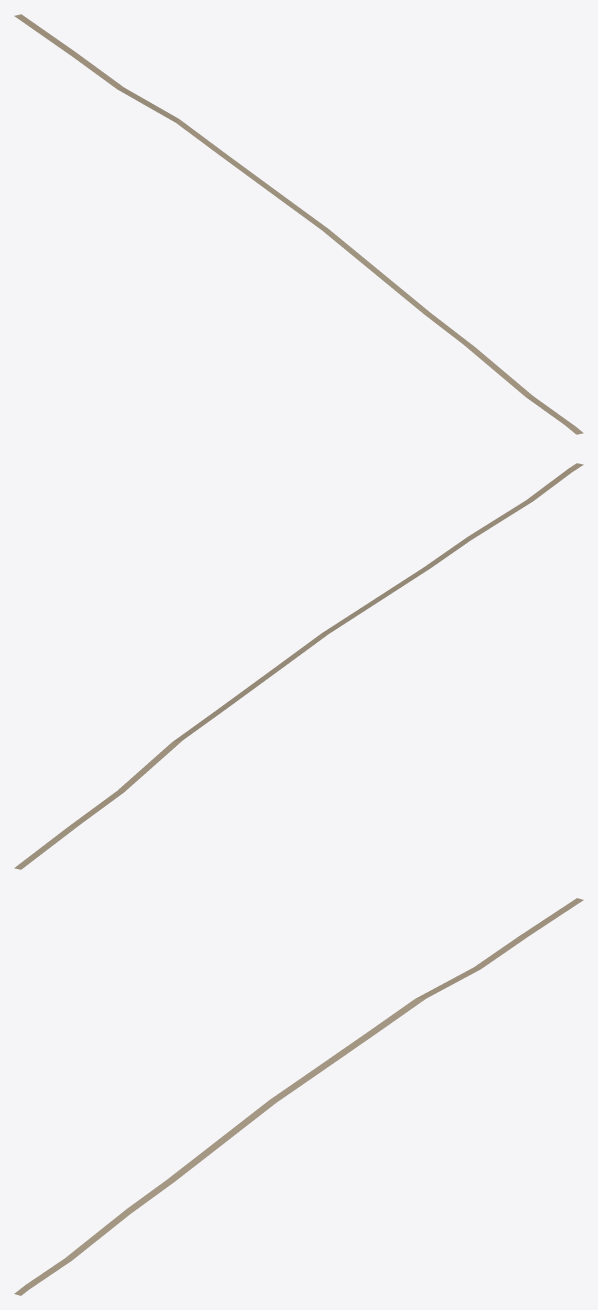
File: farm_2_-3_track.glb
The picture shows the model from 3 angles, top to bottom: view 1: azimuth 30°, elevation 25°; view 2: azimuth 150°, elevation 25°; view 3: azimuth 330°, elevation 25°; orthographic projection. The views are drawn at different scales.
Visible parts, largest first — view 1: geometry_0; view 2: geometry_0; view 3: geometry_0.
Boxes of the visible parts, <box> form: geometry_0: <box>14,14,583,434</box>; geometry_0: <box>14,463,583,869</box>; geometry_0: <box>14,898,583,1295</box>.
Size of the model in its own units: 8.72 by 7.46 by 440.
